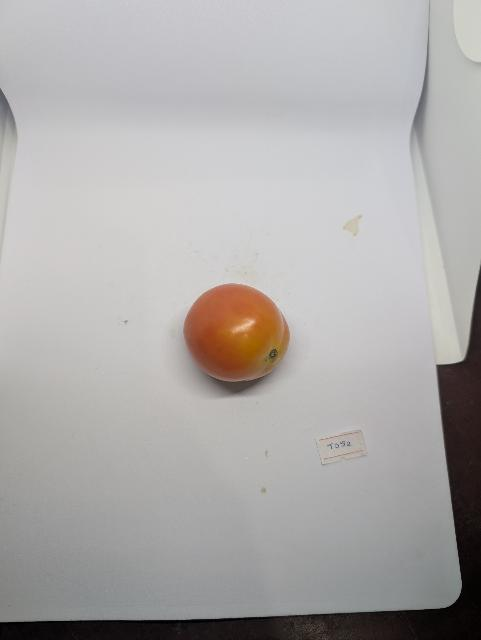turning: (176, 275, 308, 395)
